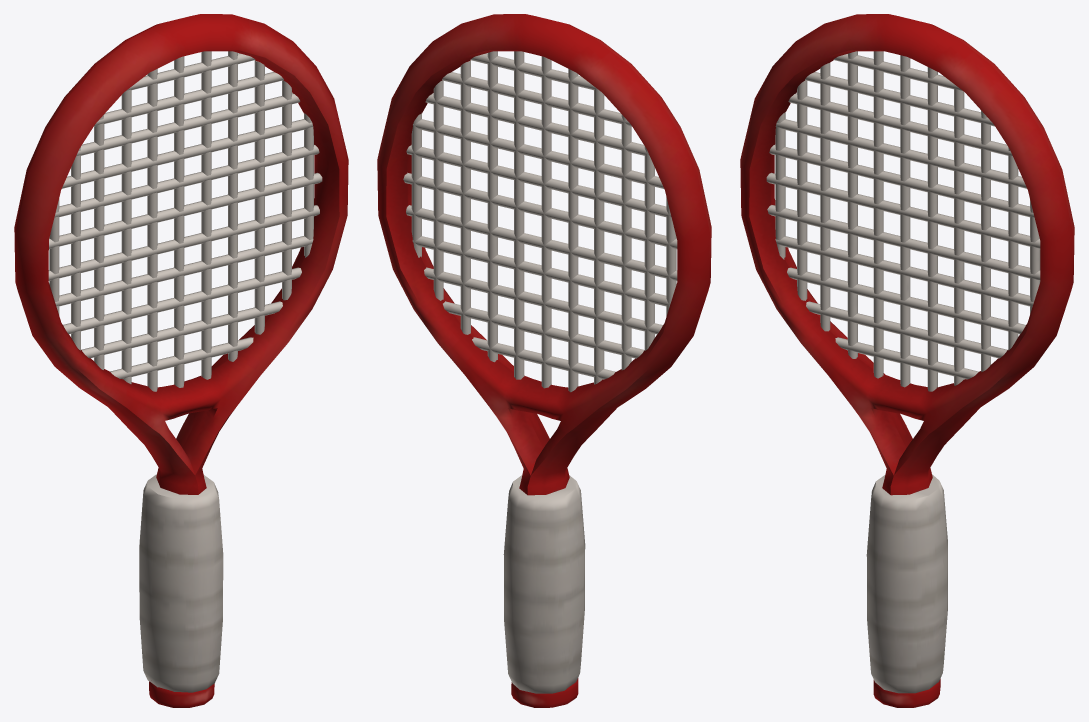
File: tennisracket.fbx
3 views of the same model, side by side, from view 1: azimuth 30°, elevation 25°; view 2: azimuth 150°, elevation 25°; view 3: azimuth 330°, elevation 25° (orthographic).
Parts seen in each view (by area): view 1: tennisracket; view 2: tennisracket; view 3: tennisracket.
Part boxes in pixels (box(x1,y1,x2,y2)): tennisracket: box(14, 14, 348, 707); tennisracket: box(377, 14, 711, 707); tennisracket: box(740, 14, 1074, 707).
Bounding box in the file's own units: 53.05 × 104 × 12.
